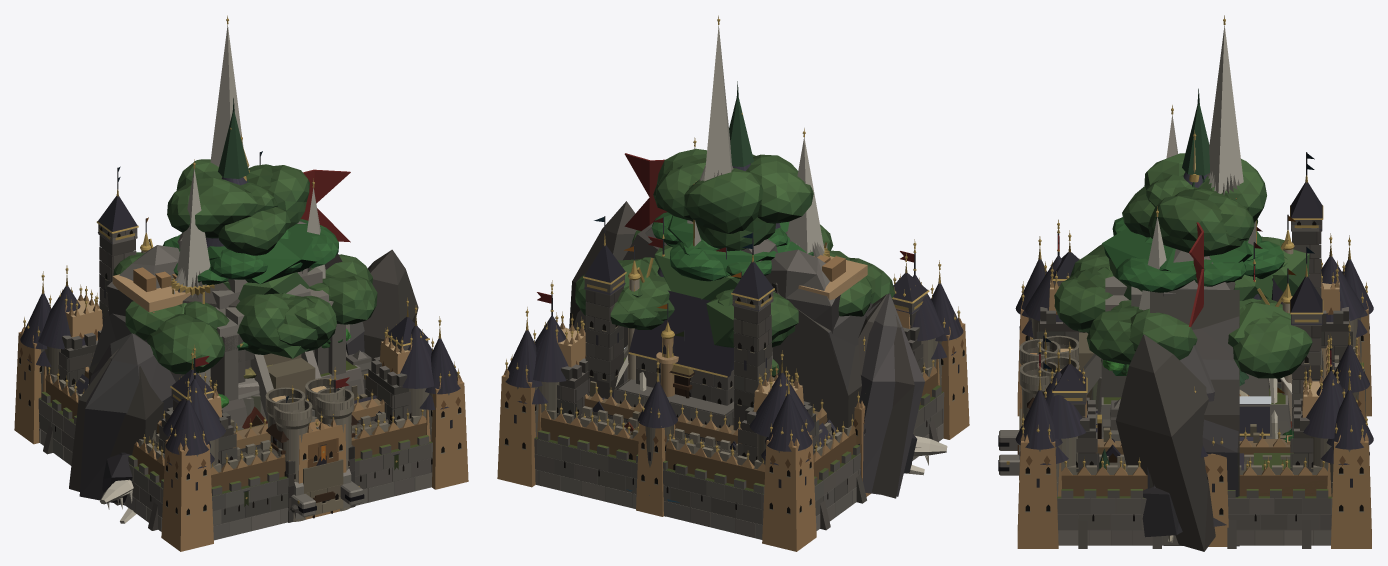
File: world-props-medium.glb
3 renders of one model, left to right at view 1: azimuth 30°, elevation 25°; view 2: azimuth 150°, elevation 25°; view 3: azimuth 270°, elevation 25°, orthographic. The views are drawn at different scales.
Parts seen in each view (by area): view 1: elderoak-1, city-desert, dwarfgate-1, city-marsh, dwarfgate-1_lo, city-temperate, castle-temperate, city-north, castle-north, elfspire-1_lo, castle-desert, temple-1 (+11 smaller); view 2: city-desert, city-north, elderoak-1, city-marsh, dwarfgate-1_lo, dwarfgate-1, castle-temperate, city-temperate, castle-desert, elfspire-1_lo, castle-north, elderoak-1_lo (+12 smaller); view 3: elderoak-1, dwarfgate-1_lo, city-desert, city-marsh, city-north, city-temperate, dwarfgate-1, castle-temperate, castle-north, elfspire-1_lo, castle-desert, jungle-2 (+11 smaller).
Boxes of the visible parts, x1,y1,x2,y2 form: elderoak-1: (113,159,377,374); city-desert: (14,217,468,551); dwarfgate-1: (79,221,371,513); city-marsh: (38,392,432,540); dwarfgate-1_lo: (69,249,418,505); city-temperate: (20,271,460,521); castle-temperate: (38,265,434,468); city-north: (43,151,429,530); castle-north: (58,330,411,468); elfspire-1_lo: (177,24,325,287); castle-desert: (59,284,423,448); temple-1: (218,328,364,519); city-desert: (497,245,969,551); city-north: (583,216,938,530); elderoak-1: (575,148,894,347); city-marsh: (534,385,944,539); dwarfgate-1_lo: (569,201,914,498); dwarfgate-1: (624,224,924,496); castle-temperate: (533,217,944,465); city-temperate: (505,260,963,513); castle-desert: (544,274,922,443); elfspire-1_lo: (694,25,824,253); castle-north: (557,327,923,465); elderoak-1_lo: (617,245,795,347); elderoak-1: (1054,153,1312,378); dwarfgate-1_lo: (1110,290,1239,551); city-desert: (1017,214,1371,548); city-marsh: (1057,362,1364,545); city-north: (1052,152,1323,548); city-temperate: (1015,235,1373,474); dwarfgate-1: (1097,249,1239,546); castle-temperate: (1025,219,1364,471); castle-north: (1036,307,1352,472); elfspire-1_lo: (1139,25,1243,310); castle-desert: (1049,258,1340,456); jungle-2: (1104,217,1259,292).
Size of the model in its own units: 1.12 by 1.4 by 1.01.
